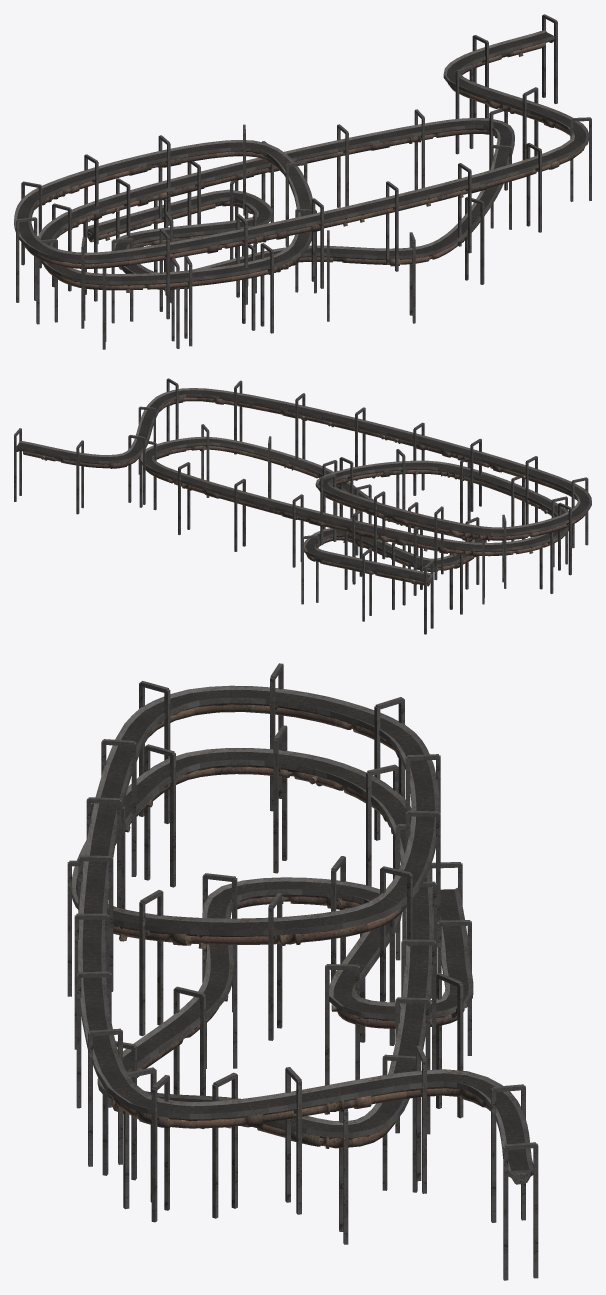
The model's file is LOC0_roadtest.fbx.
The picture shows the model from 3 angles, top to bottom: view 1: azimuth 30°, elevation 25°; view 2: azimuth 150°, elevation 25°; view 3: azimuth 270°, elevation 25°; orthographic projection. The views are drawn at different scales.
Visible parts, largest first — view 1: Vert.026; view 2: Vert.026; view 3: Vert.026.
Part boxes in pixels (left/top/right/bottom): Vert.026: left=14, top=14, right=591, bottom=349; Vert.026: left=14, top=378, right=591, bottom=634; Vert.026: left=67, top=663, right=538, bottom=1280.
Bounding box in the file's own units: 763 × 178 × 313.
